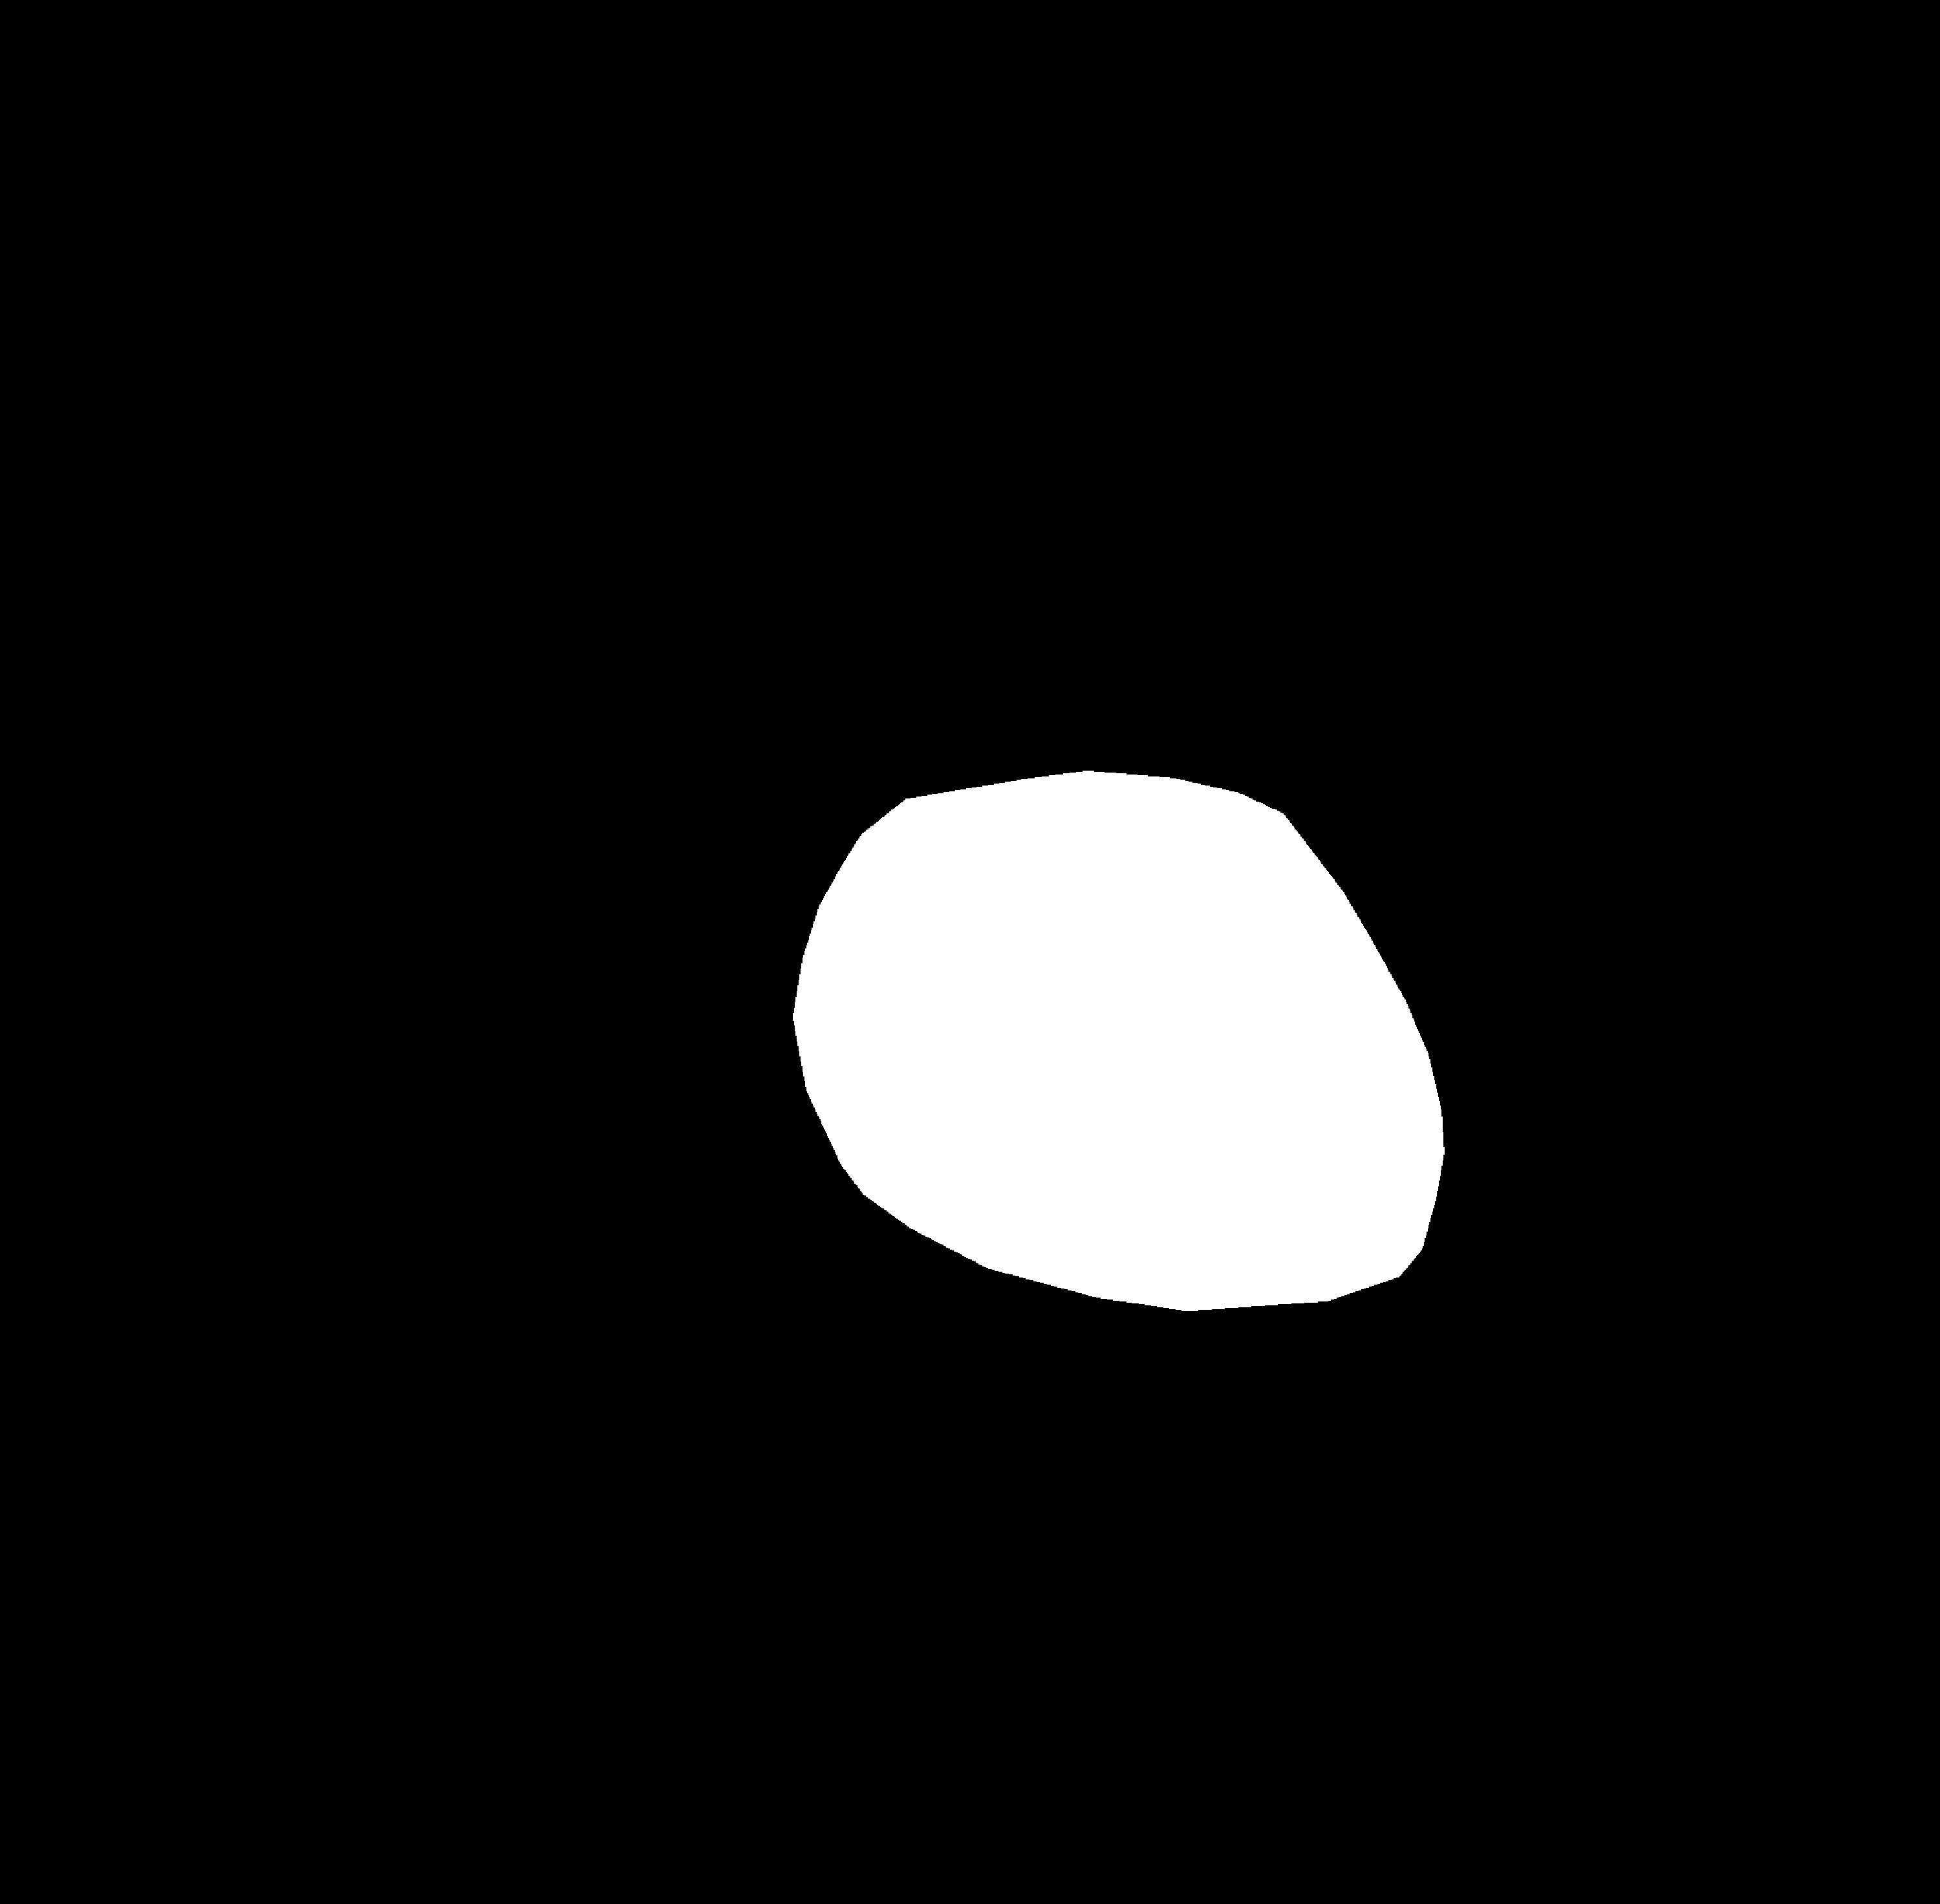heart: (794, 818, 1441, 1397)
left_lung: (344, 138, 965, 1365)
right_lung: (1131, 131, 1670, 1418)
